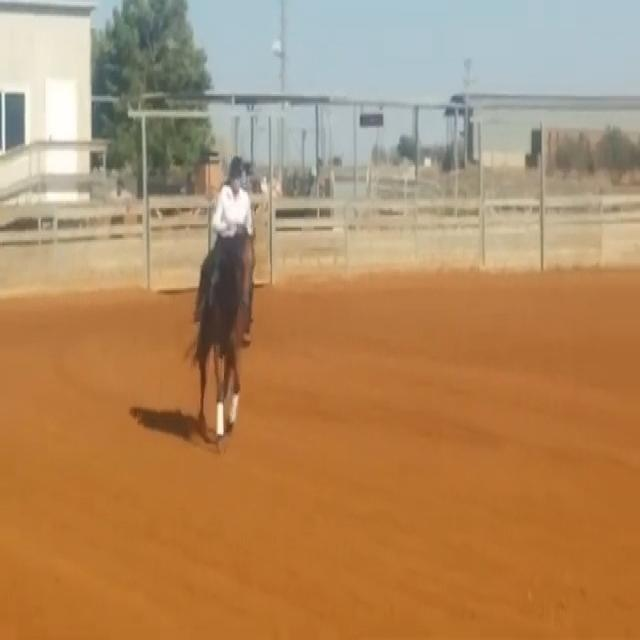horse: (188, 222, 256, 446)
